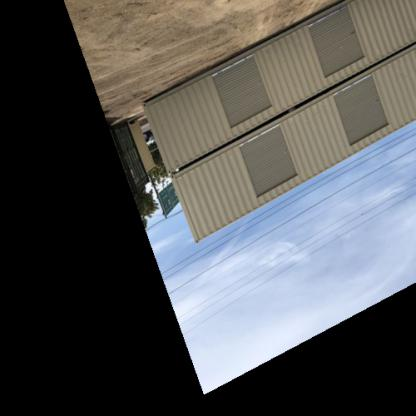Damage: (372, 95, 394, 113), (351, 30, 372, 46), (282, 144, 294, 161)
